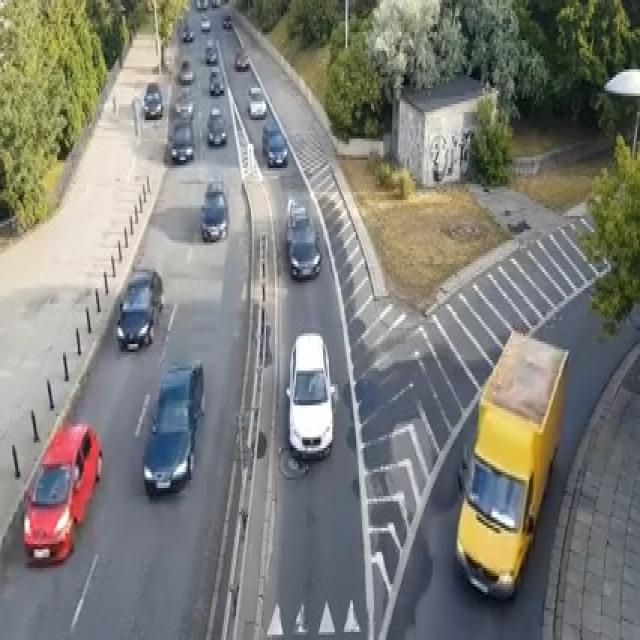bus: (454, 328, 569, 600)
car: (23, 421, 102, 563), (142, 360, 204, 496), (286, 331, 336, 458), (115, 267, 163, 349), (284, 197, 320, 280), (198, 179, 228, 240), (261, 120, 287, 165), (170, 117, 194, 163), (206, 106, 227, 146), (143, 83, 162, 117), (246, 86, 266, 118), (173, 91, 194, 120), (209, 67, 224, 96), (179, 58, 194, 82), (234, 48, 250, 69), (204, 43, 217, 64), (182, 24, 194, 40), (200, 13, 210, 30), (221, 13, 231, 27), (195, 0, 208, 8), (210, 0, 220, 5)
